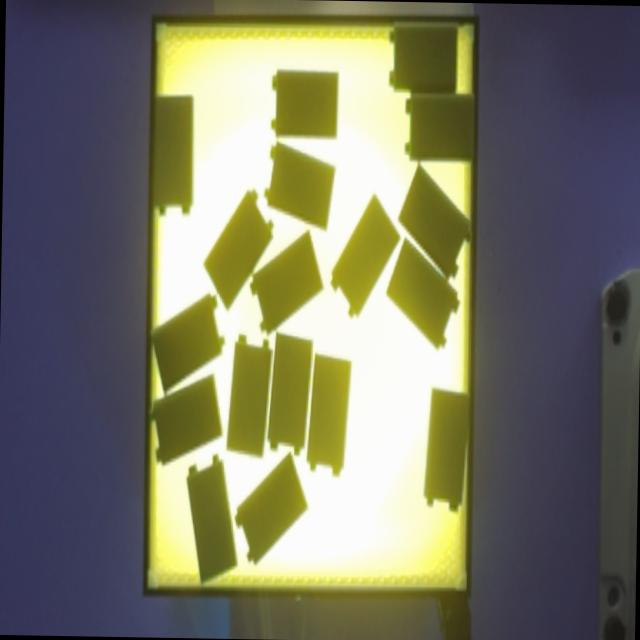bateria: (330, 193, 400, 319), (399, 163, 472, 281), (203, 189, 273, 308), (234, 452, 308, 564), (386, 236, 459, 348), (250, 227, 323, 335), (151, 293, 225, 392), (149, 373, 221, 465), (186, 454, 237, 583), (264, 140, 335, 231), (424, 388, 469, 511), (226, 334, 271, 456), (307, 353, 351, 476), (268, 332, 312, 455), (153, 95, 193, 215), (271, 70, 338, 137), (389, 24, 456, 90), (405, 93, 472, 159)
mesa: (143, 15, 479, 600)
